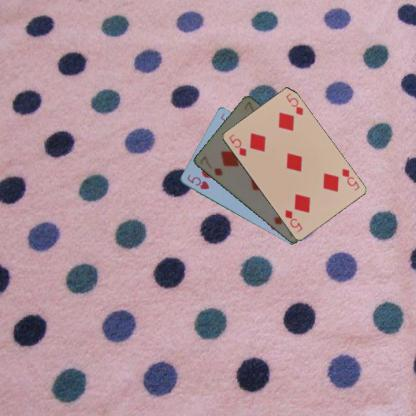5d: (226, 131, 248, 158), (339, 166, 361, 192)
5h: (184, 172, 210, 190)
7d: (197, 153, 224, 177)
